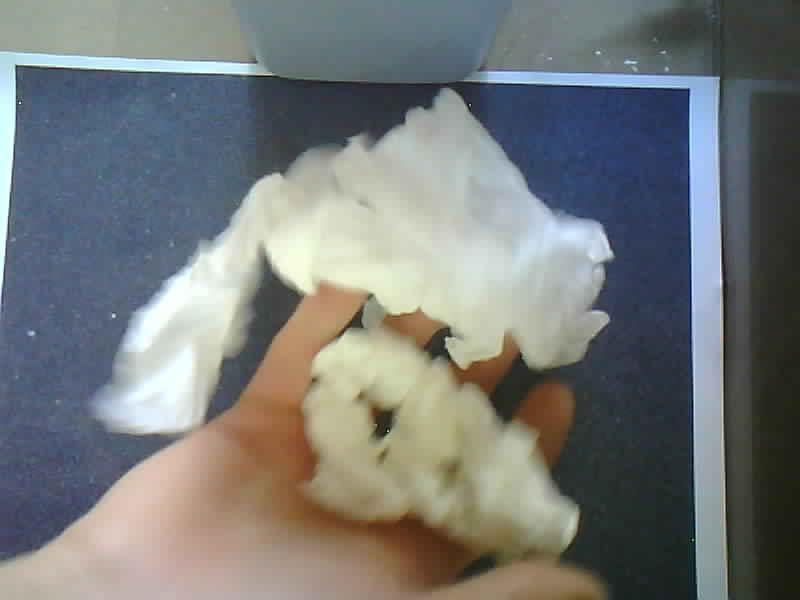paper: (92, 89, 612, 433), (305, 328, 578, 559)
